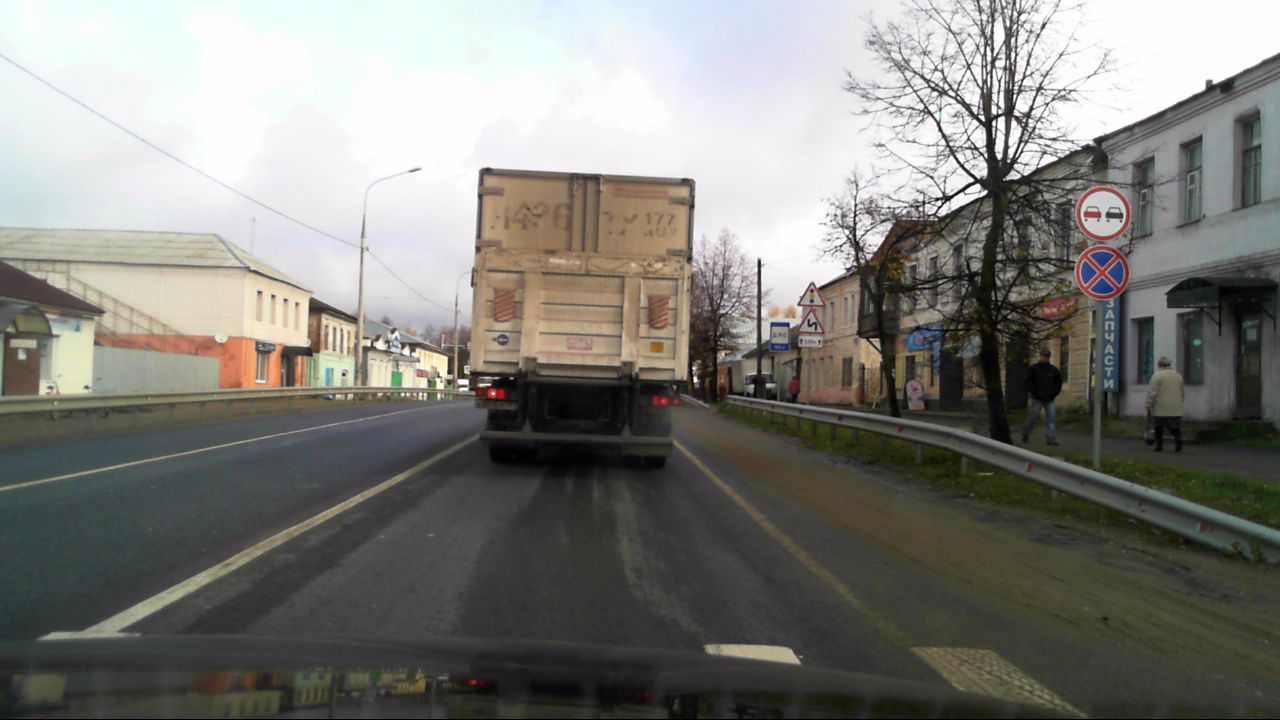No Parking: (1073, 245, 1130, 297)
